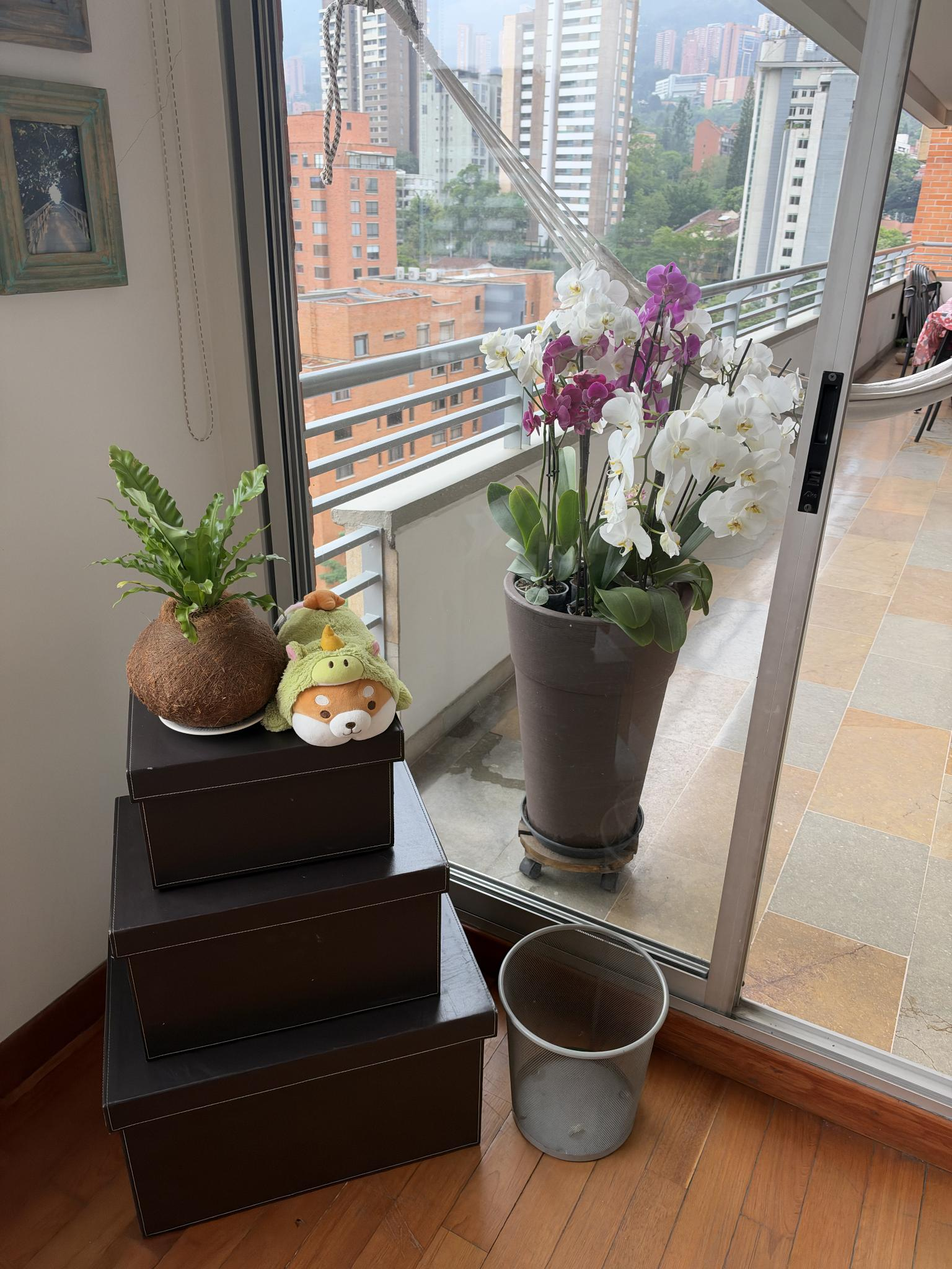peluche_martin: (262, 588, 414, 748)
